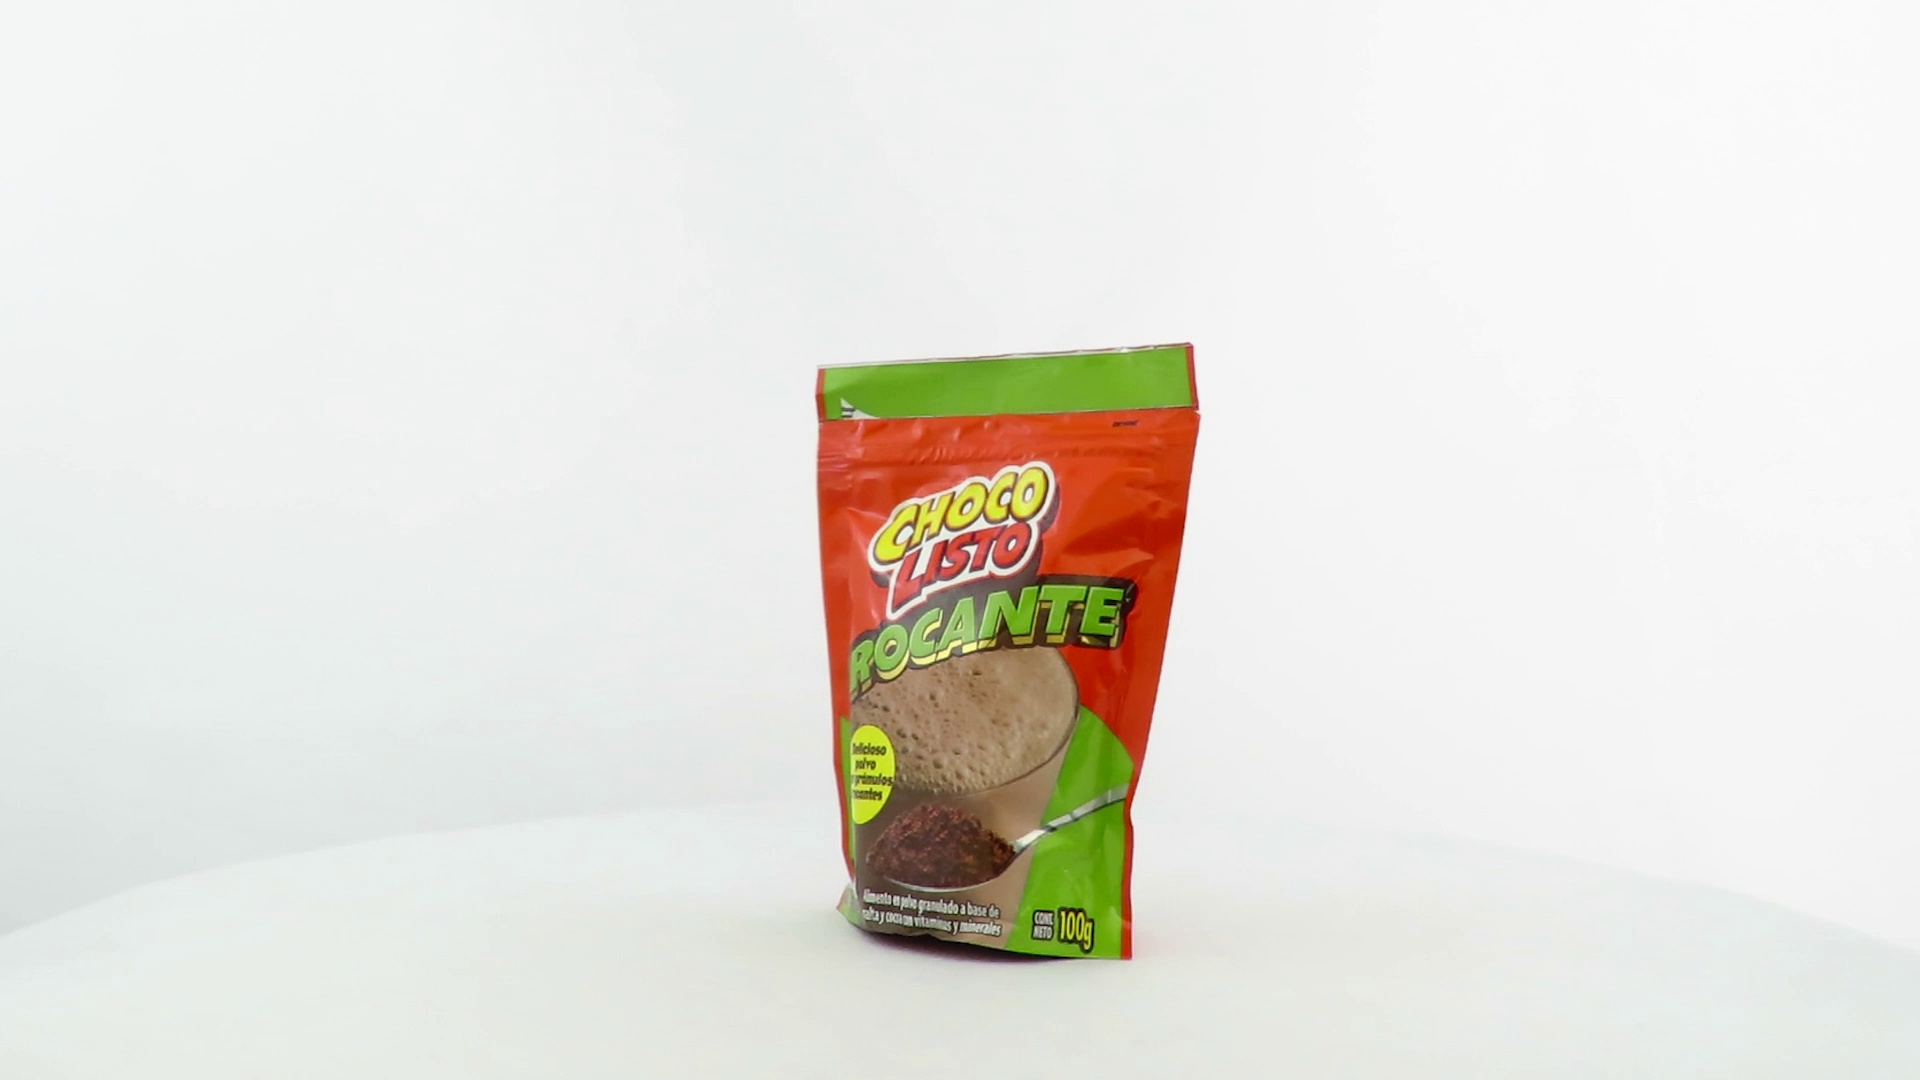COL0170102DYP10000: (810, 338, 1207, 969)
